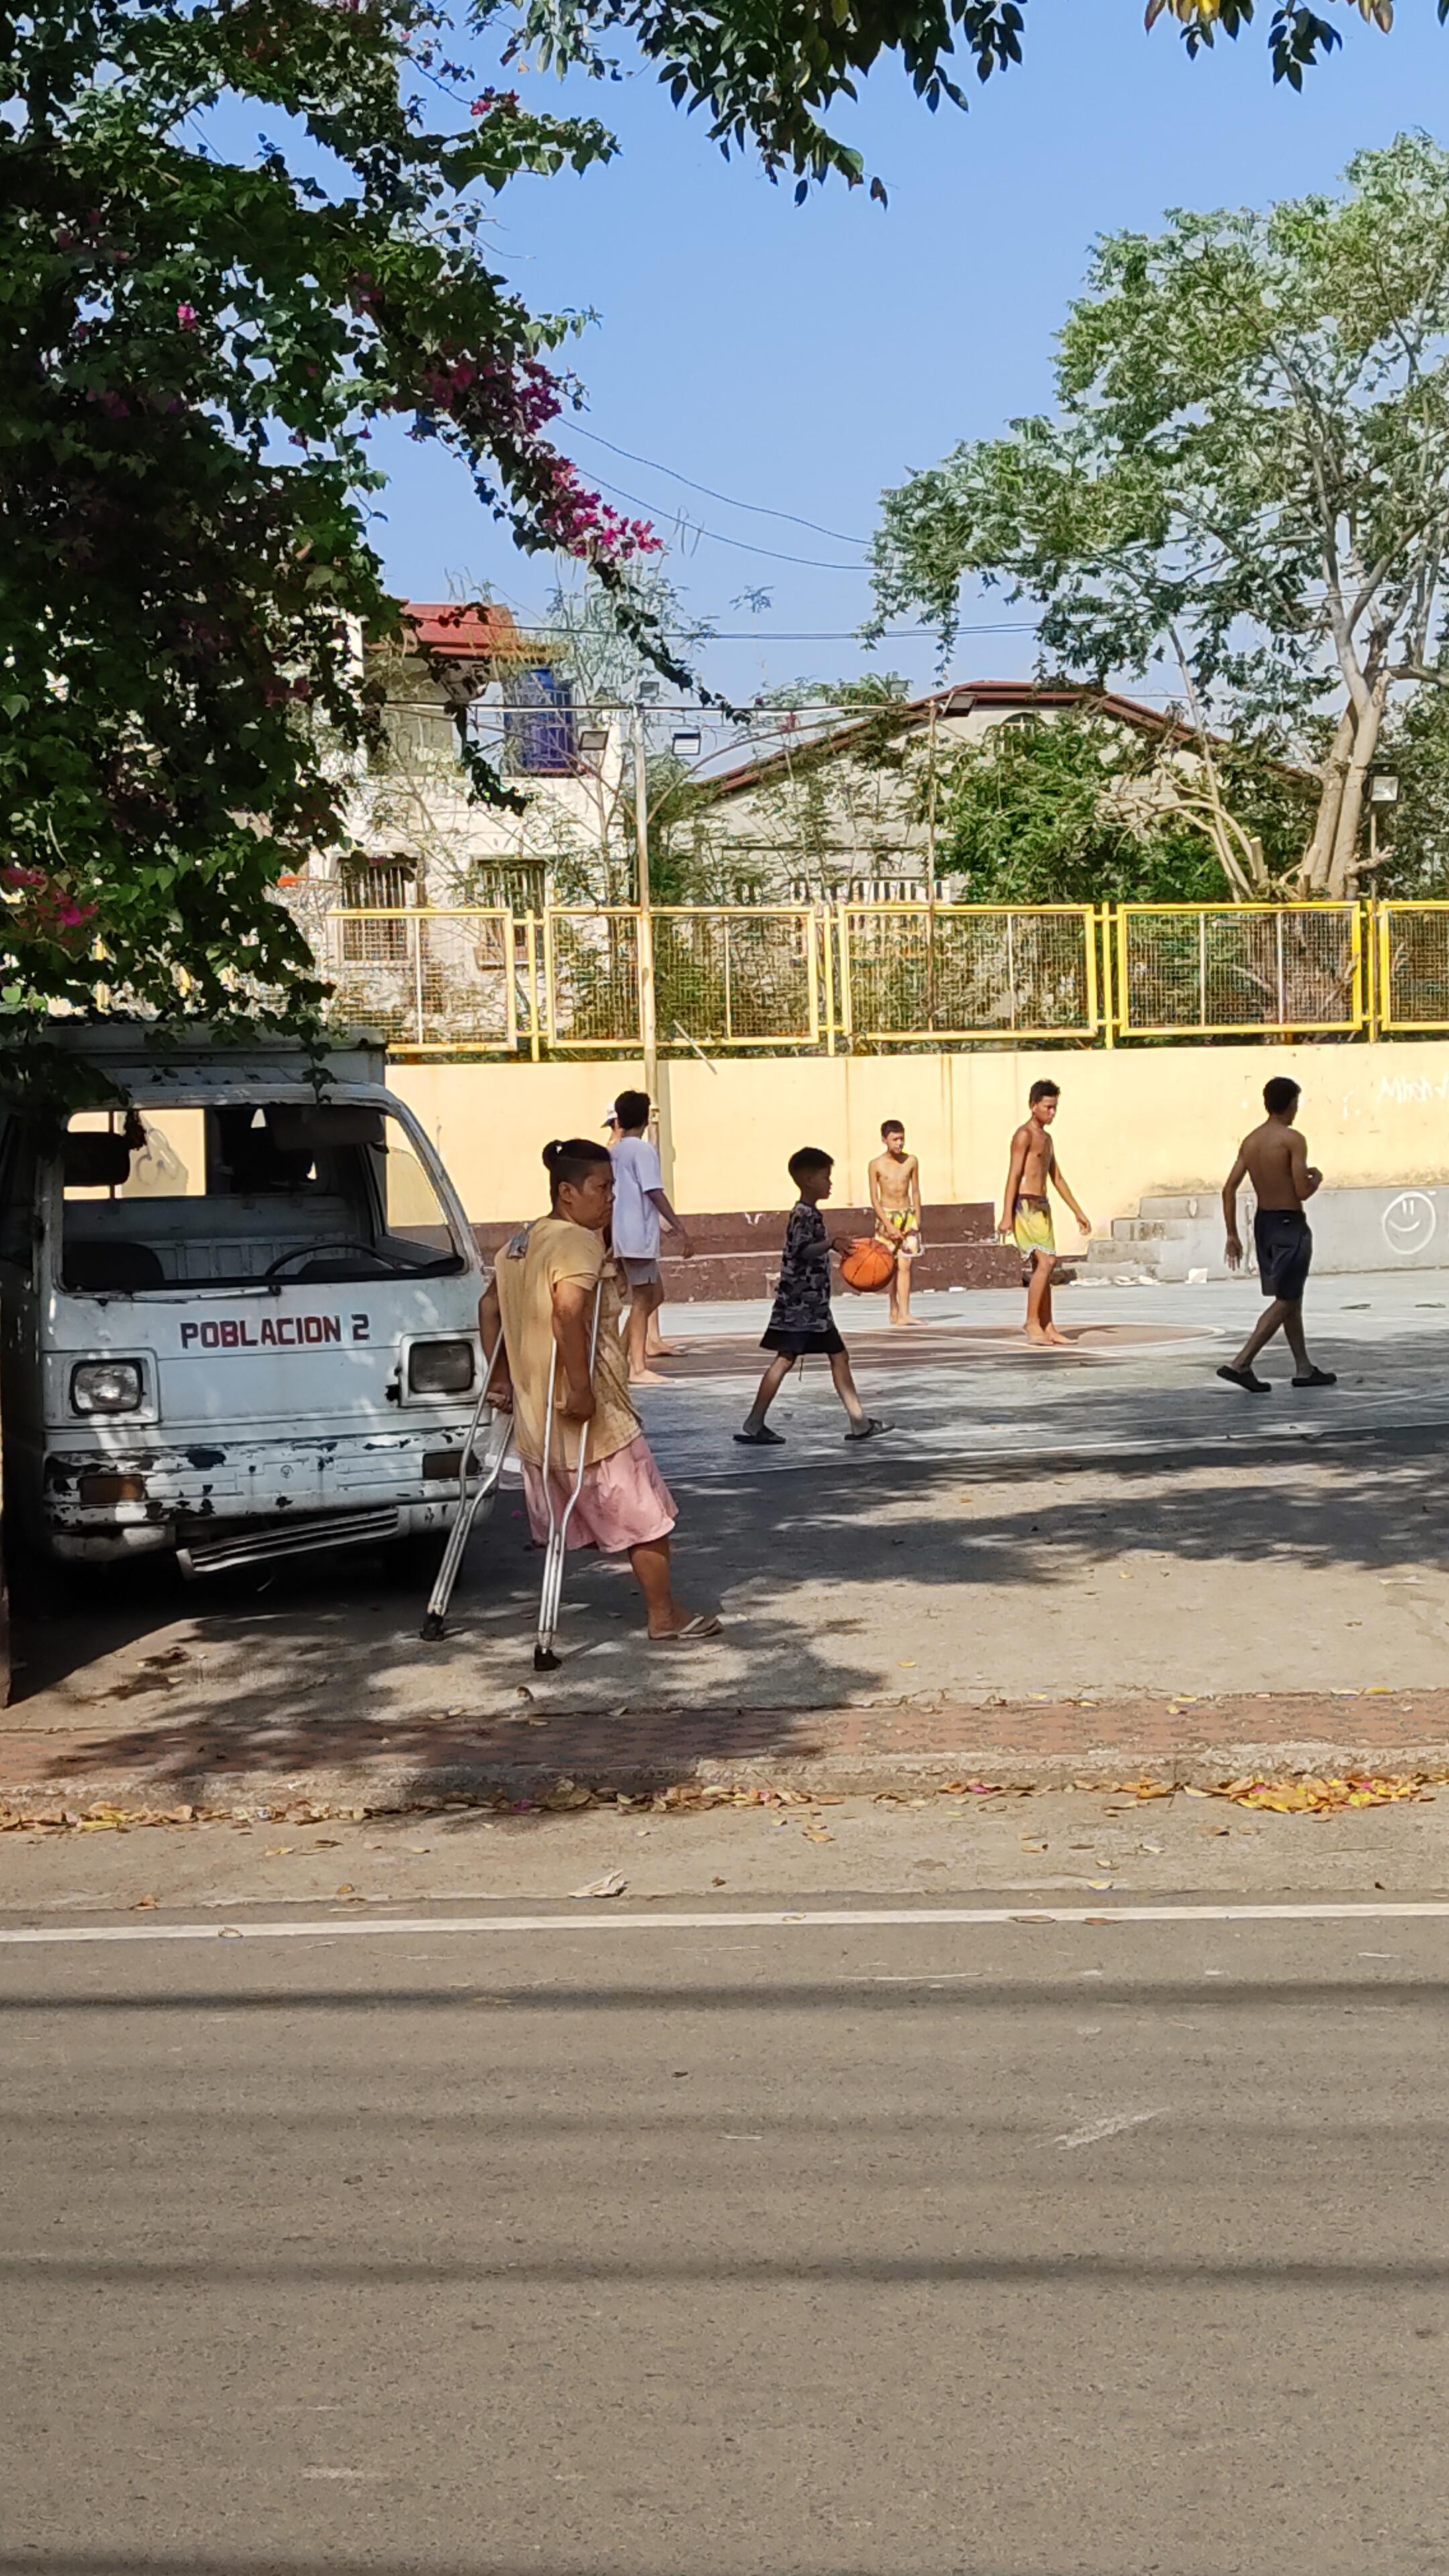crutches: (396, 1115, 690, 1691)
